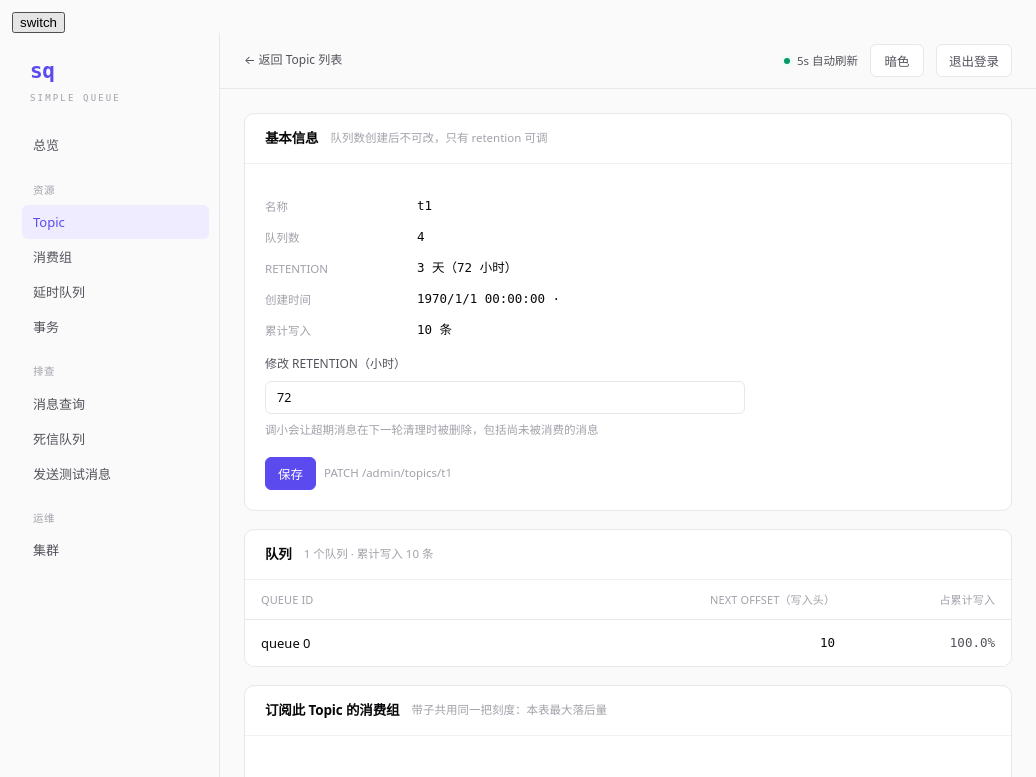
Scenario: TopicDetail › 保存 retention 的成功横幅用 JSX 渲染，不把 <b> 当字面文本
This screenshot has width=1036, height=777.
Expected: the number field showing "72" is shown, [265,381,745,414]
Step 1. Click the button "保存" → click(290, 473), box [265,457,316,490]
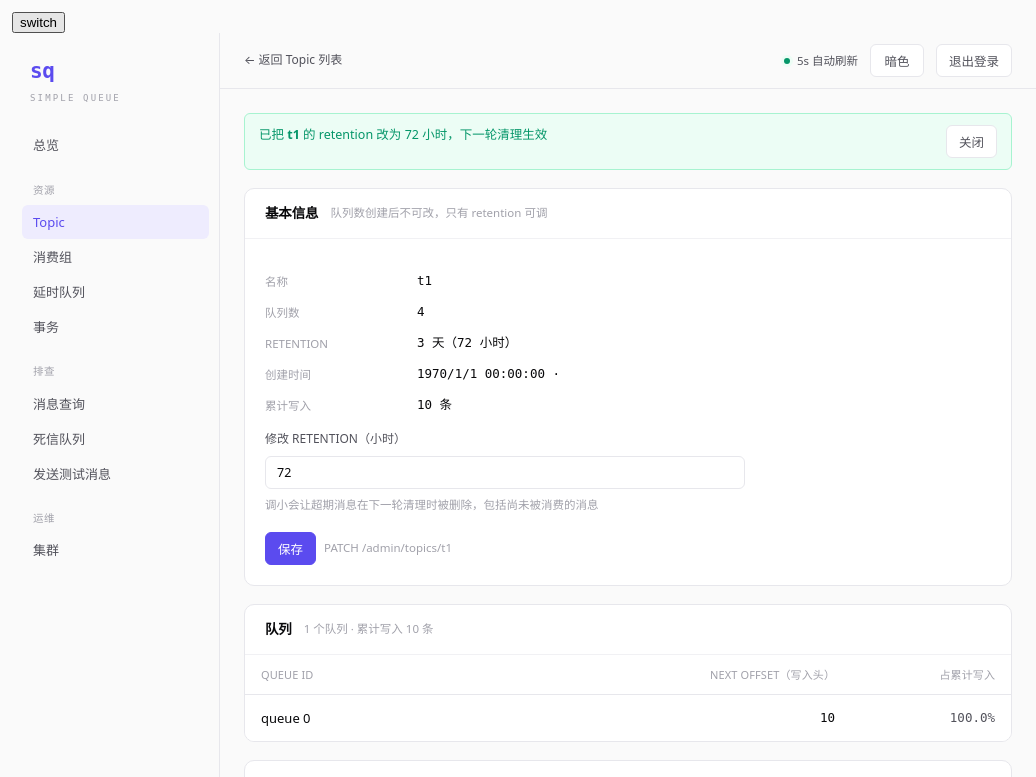
Result: the text "已把 t1 的 retention 改为 72 小时" is shown at [259,125,547,145]
